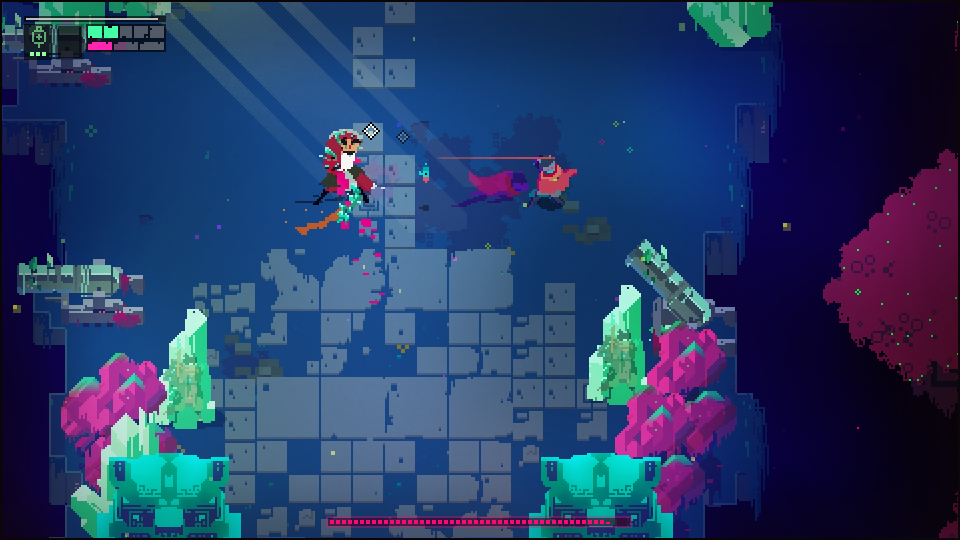hanged_man: (299, 128, 369, 233)
player: (535, 155, 582, 211)
